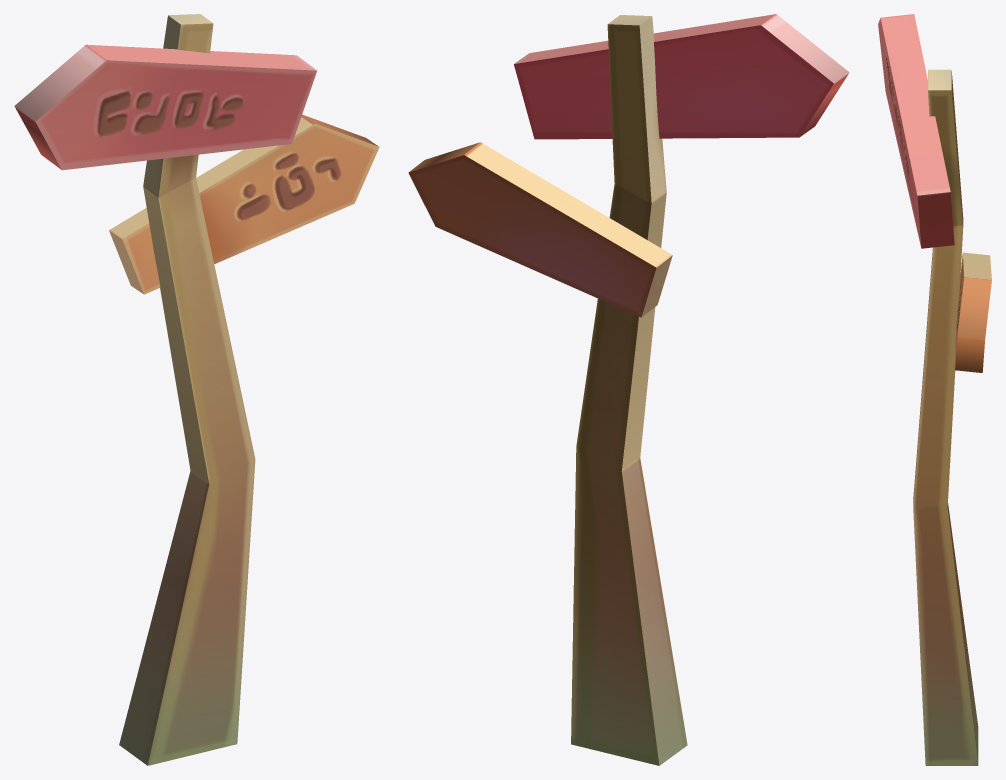
Rendered from Sign_1.FBX.
3 views of the same model, side by side, from view 1: azimuth 30°, elevation 25°; view 2: azimuth 150°, elevation 25°; view 3: azimuth 270°, elevation 25° (orthographic). The views are drawn at different scales.
Visible parts, largest first — view 1: Box014; view 2: Box014; view 3: Box014.
Boxes of the visible parts, x1=… form: Box014: x1=14, y1=14, x2=379, y2=765; Box014: x1=408, y1=14, x2=849, y2=765; Box014: x1=878, y1=14, x2=991, y2=765.
Bounding box in the file's own units: 7.11 × 12.87 × 1.95.
